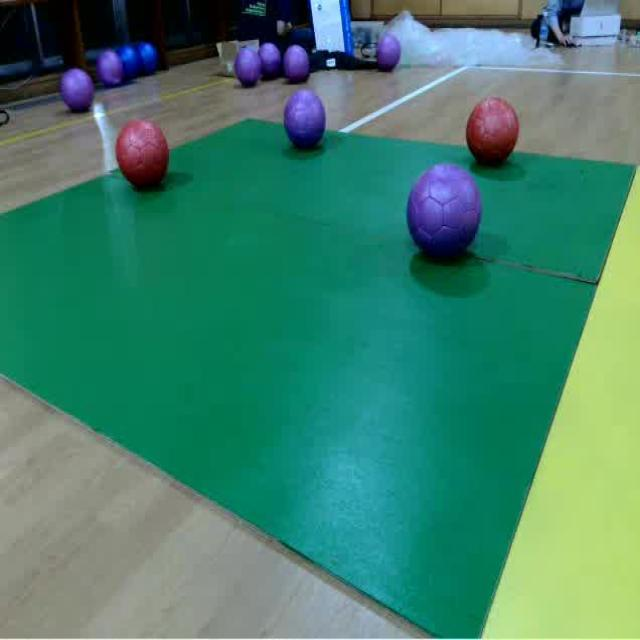blue_ball: (119, 47, 139, 81), (139, 44, 155, 74)
purple_ball: (407, 161, 483, 263), (282, 84, 330, 154), (56, 66, 93, 111), (233, 46, 263, 88), (283, 42, 311, 84), (375, 35, 402, 72), (256, 40, 281, 79), (94, 51, 120, 88)
red_ball: (466, 95, 523, 168), (115, 118, 172, 191)
